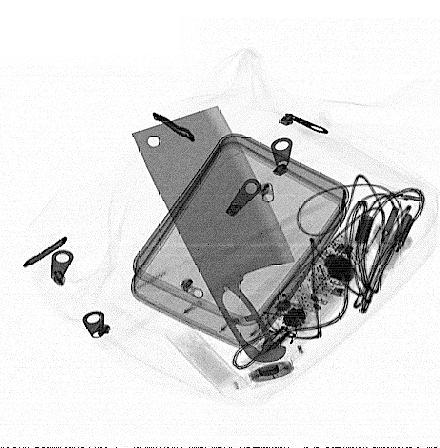Knife: (130, 105, 299, 365)
